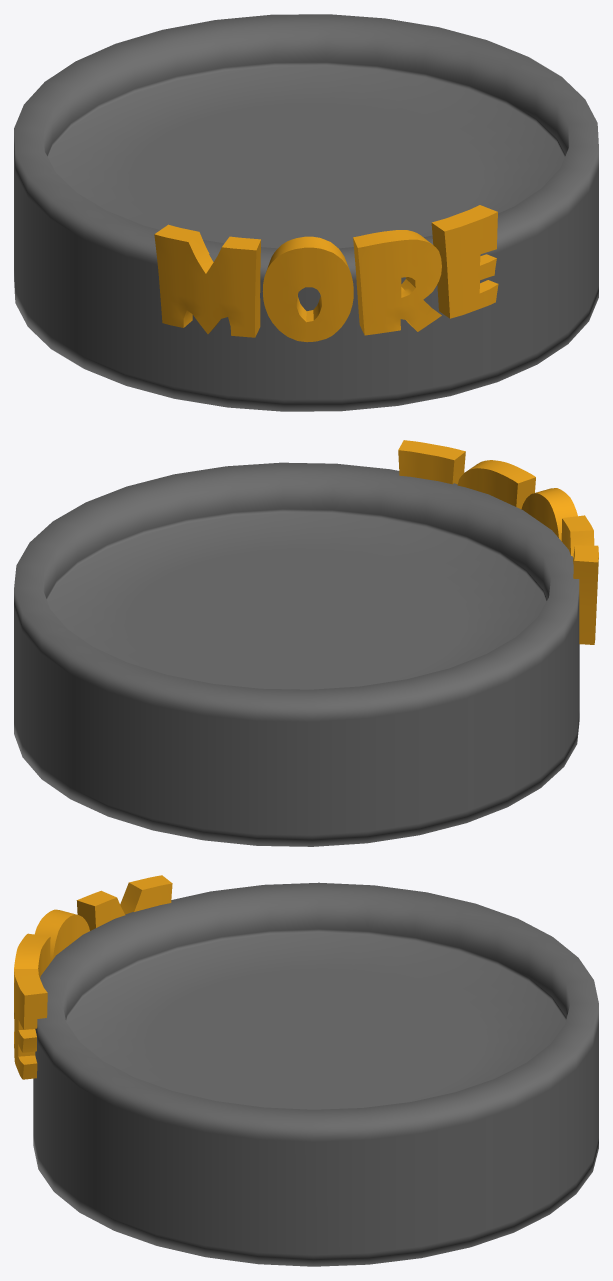
Rendered from roadmap_basebutton.glb.
The picture shows the model from 3 angles, top to bottom: view 1: azimuth 30°, elevation 25°; view 2: azimuth 150°, elevation 25°; view 3: azimuth 270°, elevation 25°; orthographic projection. The views are drawn at different scales.
Parts seen in each view (by area): view 1: Cylinder.006, Text.004; view 2: Cylinder.006, Text.004; view 3: Cylinder.006, Text.004.
Part boxes in pixels (<box>): Cylinder.006: <box>14,14,598,411</box>; Text.004: <box>154,205,498,342</box>; Cylinder.006: <box>14,462,579,846</box>; Text.004: <box>398,440,598,644</box>; Cylinder.006: <box>33,882,598,1266</box>; Text.004: <box>14,875,172,1079</box>.
Bounding box in the file's own units: 1.21 × 0.4022 × 1.25.
